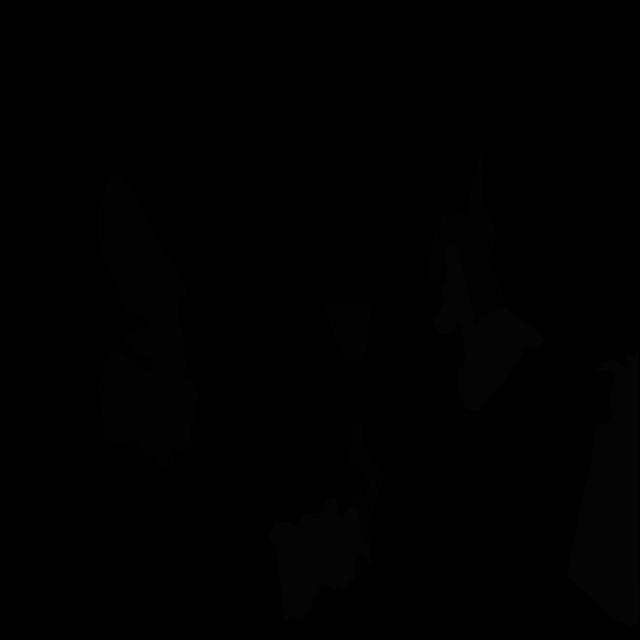cardboard: (98, 173, 199, 452), (426, 149, 506, 327), (98, 350, 175, 468), (345, 423, 387, 553), (322, 301, 372, 367)
soft_plastic: (566, 346, 640, 627), (432, 242, 545, 412), (268, 495, 372, 623)
